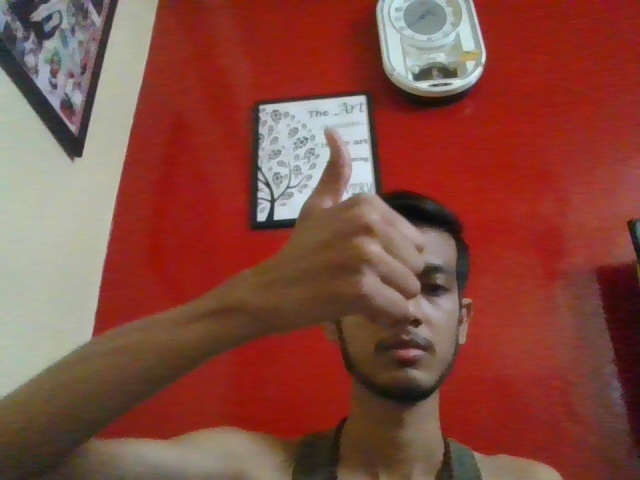ThumbsUp: (310, 125, 428, 339)
